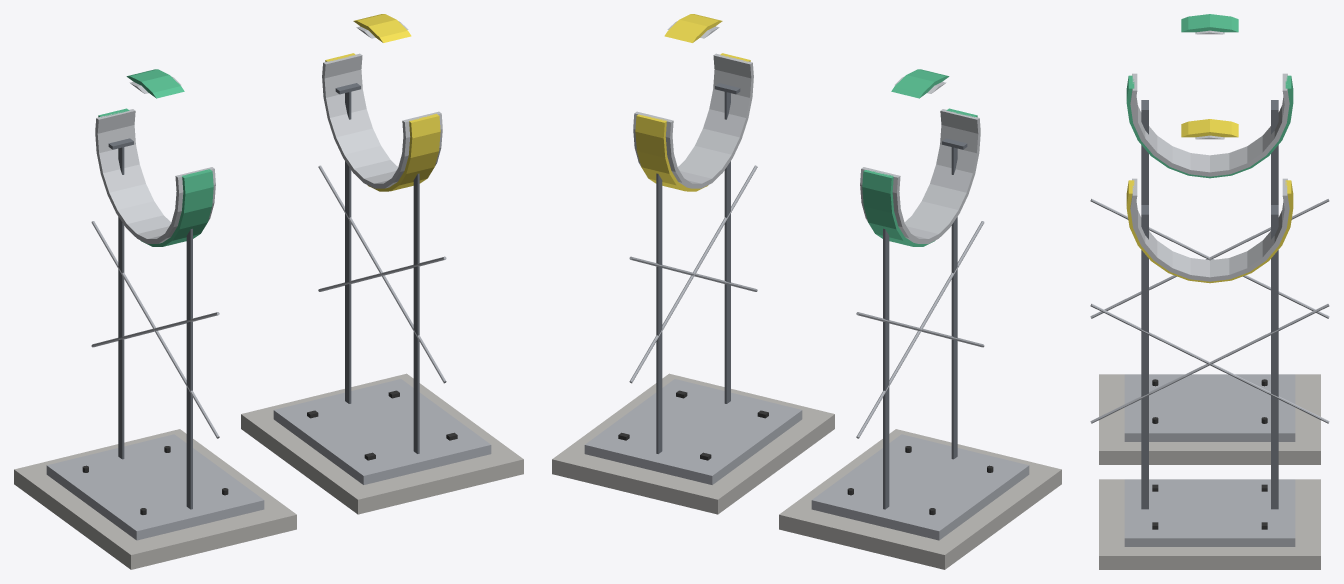
Rendered from tank saddle.fbx.
The picture shows the model from 3 angles, left to right: view 1: azimuth 30°, elevation 25°; view 2: azimuth 150°, elevation 25°; view 3: azimuth 270°, elevation 25°; orthographic projection. The views are drawn at different scales.
Parts seen in each view (by area): view 1: H2Tank_Saddle_Supports, H2Tank_Saddle_ConcretePads; view 2: H2Tank_Saddle_Supports, H2Tank_Saddle_ConcretePads; view 3: H2Tank_Saddle_Supports, H2Tank_Saddle_ConcretePads.
Boxes of the visible parts, box(x1,y1,x2,y2) form: H2Tank_Saddle_Supports: box(46, 14, 491, 540); H2Tank_Saddle_ConcretePads: box(14, 373, 523, 569); H2Tank_Saddle_Supports: box(584, 14, 1029, 540); H2Tank_Saddle_ConcretePads: box(552, 373, 1061, 569); H2Tank_Saddle_Supports: box(1090, 14, 1329, 546); H2Tank_Saddle_ConcretePads: box(1099, 374, 1320, 569).
Size of the model in its own units: 222 by 231 by 123.
